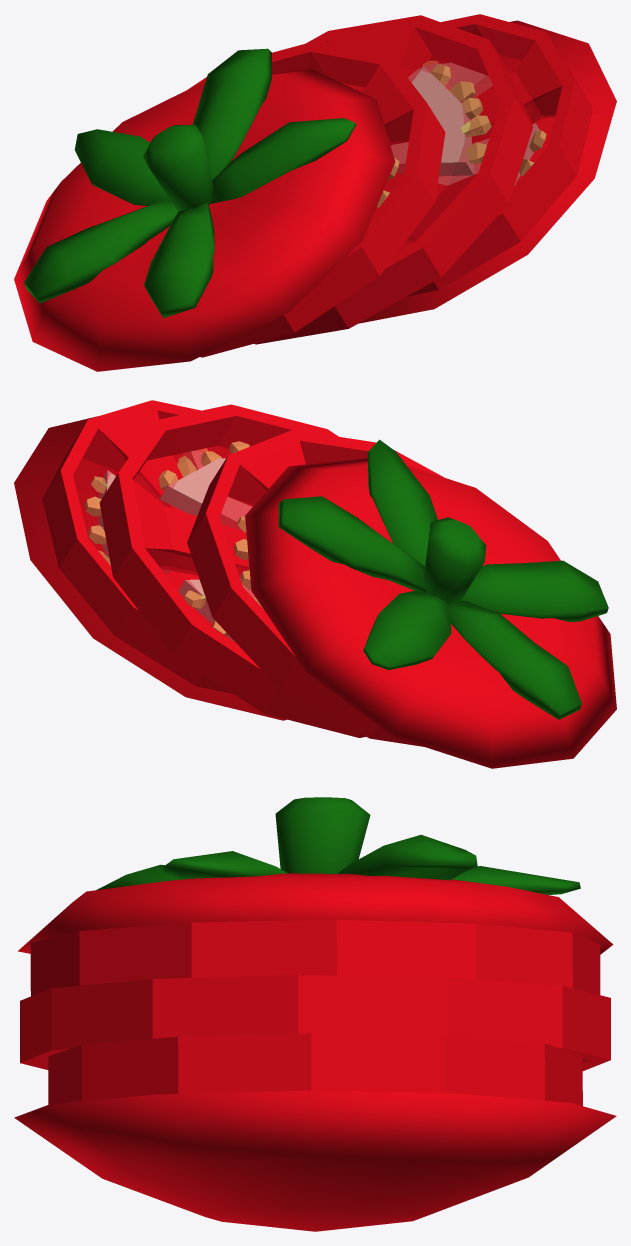
File: TomatoSliced.fbx
The picture shows the model from 3 angles, top to bottom: view 1: azimuth 30°, elevation 25°; view 2: azimuth 150°, elevation 25°; view 3: azimuth 270°, elevation 25°; orthographic projection. The views are drawn at different scales.
Parts seen in each view (by area): view 1: TomatoSliced; view 2: TomatoSliced; view 3: TomatoSliced.
Boxes of the visible parts, box(x1,y1,x2,y2) form: TomatoSliced: box(14, 14, 616, 371); TomatoSliced: box(14, 400, 616, 768); TomatoSliced: box(14, 797, 616, 1231).
Size of the model in its own units: 76.42 by 30.6 by 51.4.
